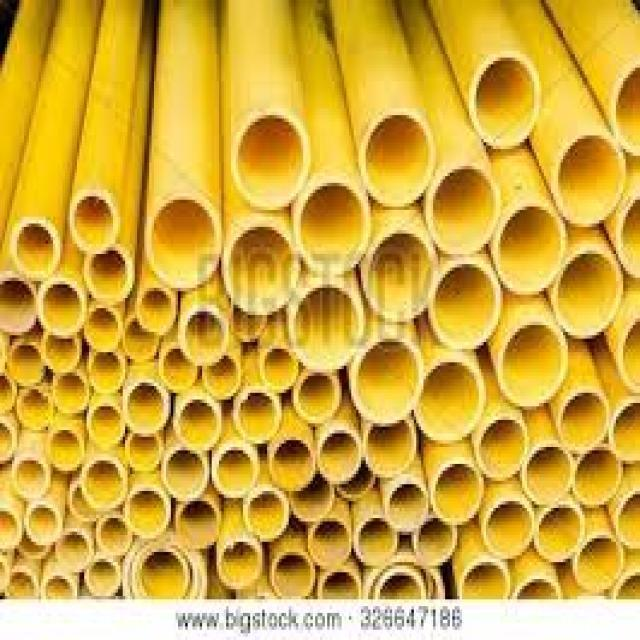pipe: (237, 112, 309, 202), (555, 131, 625, 222), (147, 195, 216, 285), (362, 232, 435, 317), (499, 200, 563, 293), (366, 112, 431, 203), (476, 56, 538, 149), (431, 263, 500, 345), (355, 335, 421, 420), (431, 165, 495, 252), (556, 248, 620, 335), (293, 284, 361, 365), (501, 320, 562, 407), (230, 223, 294, 304), (300, 184, 363, 266), (126, 536, 203, 599), (415, 359, 481, 430), (134, 544, 195, 599), (366, 556, 440, 600), (476, 418, 528, 478), (484, 498, 534, 554), (563, 390, 608, 450), (432, 464, 480, 520), (13, 221, 60, 277), (367, 418, 414, 473), (575, 445, 618, 503), (524, 446, 571, 498), (184, 307, 227, 363), (72, 194, 116, 248), (576, 536, 624, 585), (86, 244, 128, 299), (538, 504, 580, 558), (212, 446, 257, 496), (140, 549, 185, 597), (125, 382, 170, 430), (0, 274, 36, 332), (177, 498, 218, 548), (177, 396, 218, 446), (166, 447, 205, 499), (247, 488, 286, 540), (355, 515, 396, 564), (86, 457, 126, 507), (309, 515, 349, 565), (320, 427, 357, 481), (42, 283, 84, 330), (297, 374, 339, 421), (291, 469, 330, 519), (128, 486, 167, 534), (240, 392, 279, 440), (387, 481, 426, 529), (415, 519, 456, 564), (276, 437, 311, 489), (220, 542, 259, 587), (273, 550, 311, 596), (462, 560, 506, 599), (611, 400, 640, 457), (48, 426, 84, 471), (204, 354, 240, 397), (262, 346, 296, 390), (227, 303, 266, 341), (55, 370, 87, 416), (27, 501, 60, 545), (86, 303, 119, 345), (19, 388, 52, 429), (139, 290, 173, 329), (44, 331, 78, 369), (13, 457, 46, 496), (125, 318, 158, 357), (11, 344, 43, 384), (92, 404, 123, 445), (378, 569, 424, 596), (60, 532, 91, 571), (345, 456, 373, 498), (90, 348, 120, 387), (322, 565, 359, 596), (127, 433, 159, 468), (100, 516, 129, 554), (620, 491, 640, 544), (70, 485, 102, 518), (165, 349, 195, 384), (88, 559, 116, 595), (7, 566, 38, 597), (516, 578, 559, 600), (44, 574, 76, 600), (0, 506, 18, 547), (0, 376, 13, 415), (0, 419, 11, 461)
